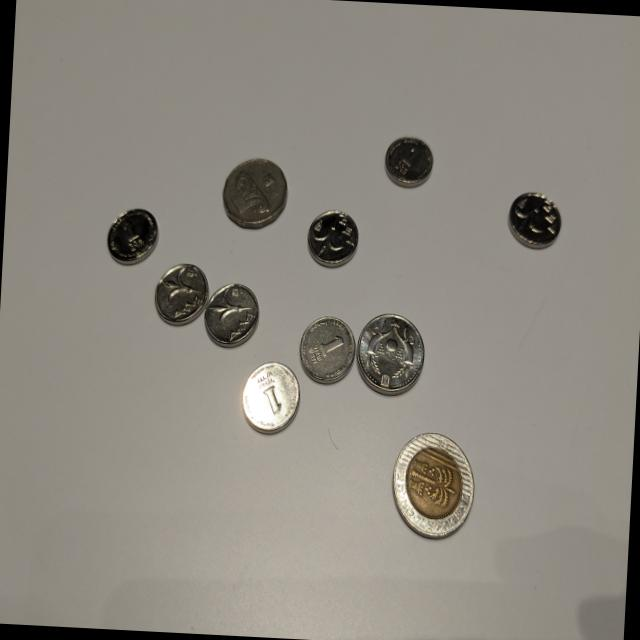1-shekel: (236, 357, 302, 438), (148, 254, 208, 332), (294, 317, 356, 387), (504, 186, 562, 256), (305, 206, 365, 270), (202, 277, 257, 346), (108, 205, 162, 262), (381, 138, 433, 196)
10-shekel: (383, 426, 492, 554)
2-shekel: (353, 308, 435, 402)
5-shekel: (220, 156, 294, 236)
